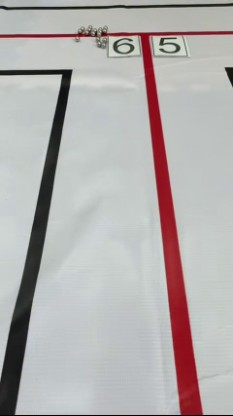ironball: (71, 32, 81, 41), (98, 38, 105, 48), (83, 23, 92, 30), (89, 27, 98, 34), (78, 22, 85, 30), (99, 25, 106, 32), (90, 27, 96, 35), (95, 42, 104, 47), (99, 37, 108, 42), (75, 27, 82, 33), (94, 35, 98, 41), (83, 27, 87, 32)
